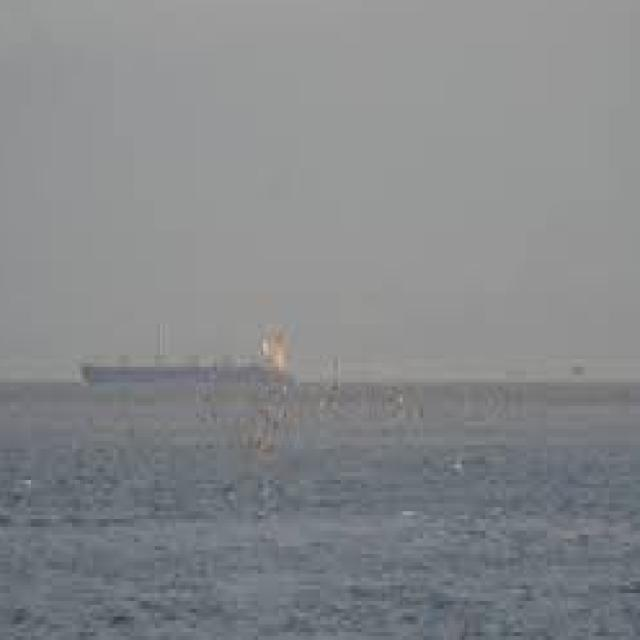cargoship: (76, 321, 292, 389)
